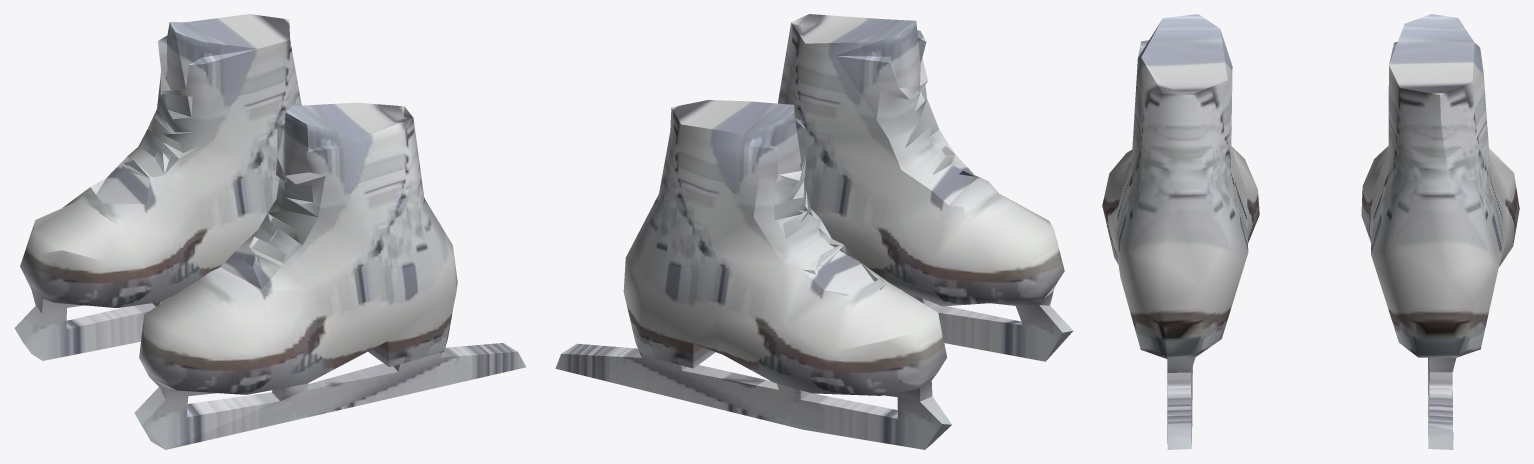
3 renders of one model, left to right at view 1: azimuth 30°, elevation 25°; view 2: azimuth 150°, elevation 25°; view 3: azimuth 270°, elevation 25°, orthographic. The views are drawn at different scales.
Visible parts, largest first — view 1: Decor_ice_skates; view 2: Decor_ice_skates; view 3: Decor_ice_skates.
Part boxes in pixels (left/top/right/bottom): Decor_ice_skates: left=14, top=14, right=526, bottom=449; Decor_ice_skates: left=555, top=14, right=1073, bottom=449; Decor_ice_skates: left=1102, top=14, right=1519, bottom=449.
Size of the model in its own units: 0.423 by 0.3181 by 0.3763.
1 material, 1 textured.
